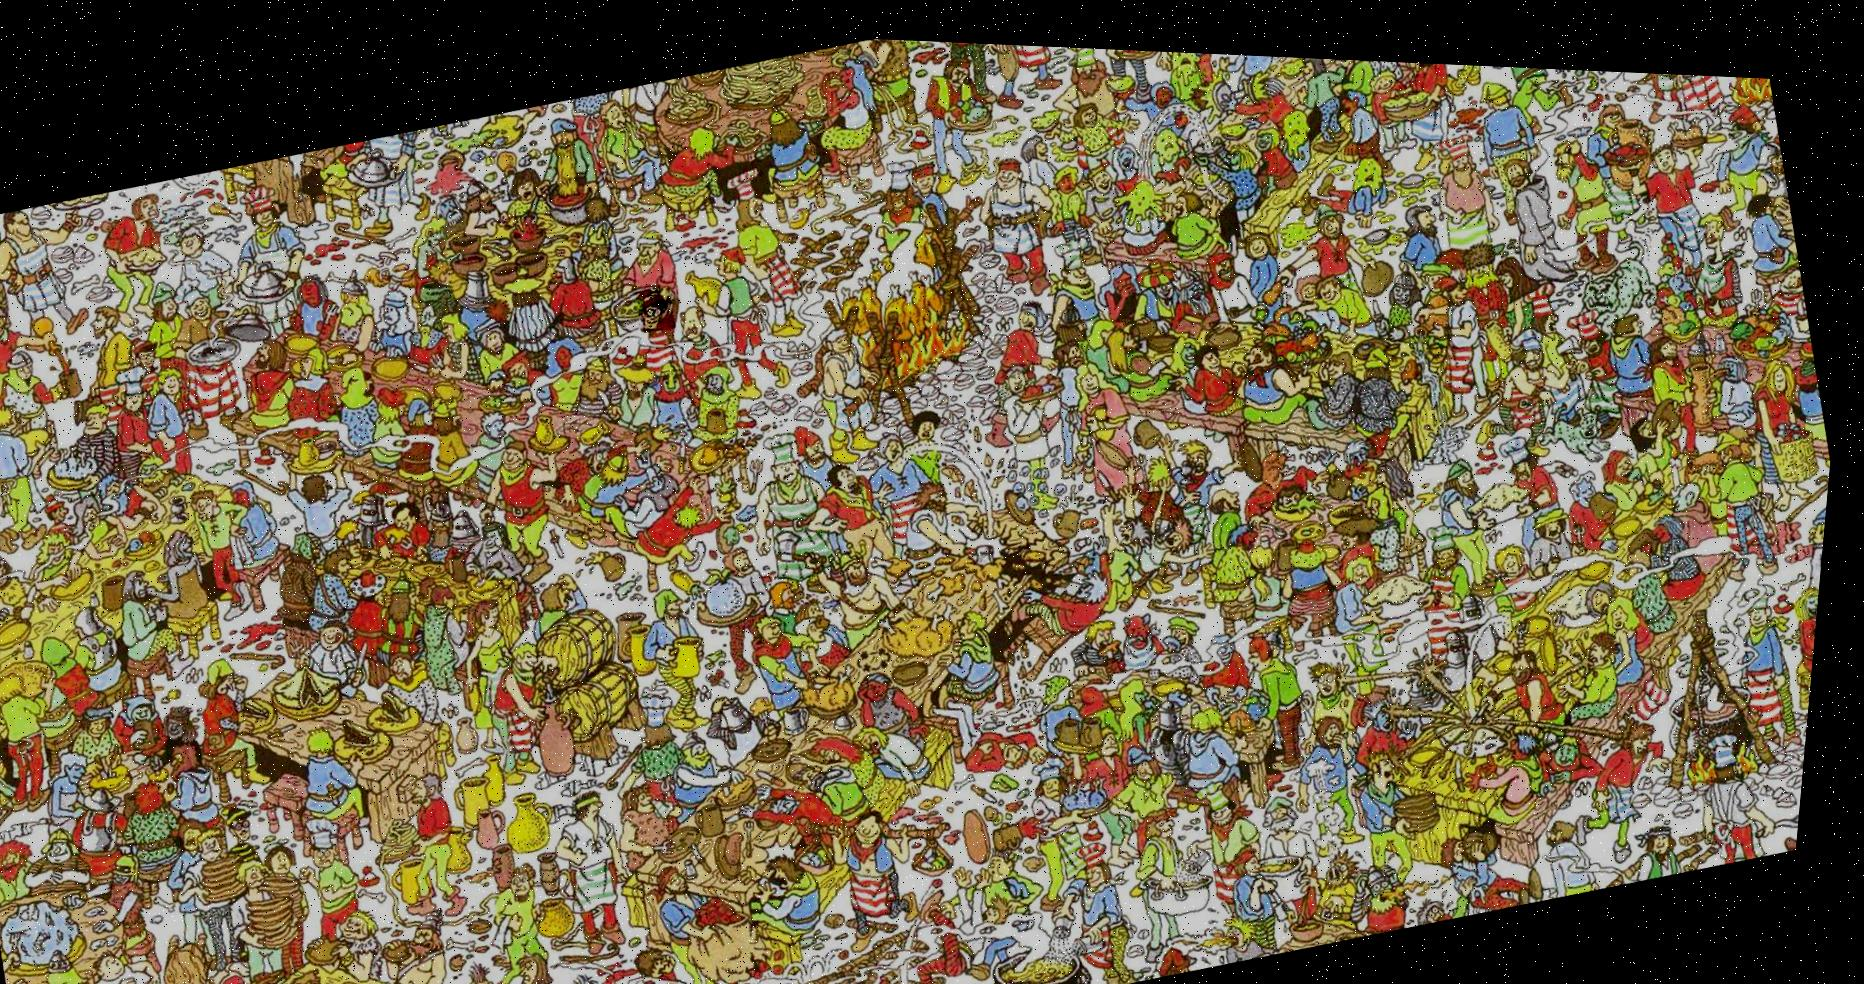waldo: (637, 277, 684, 328)
